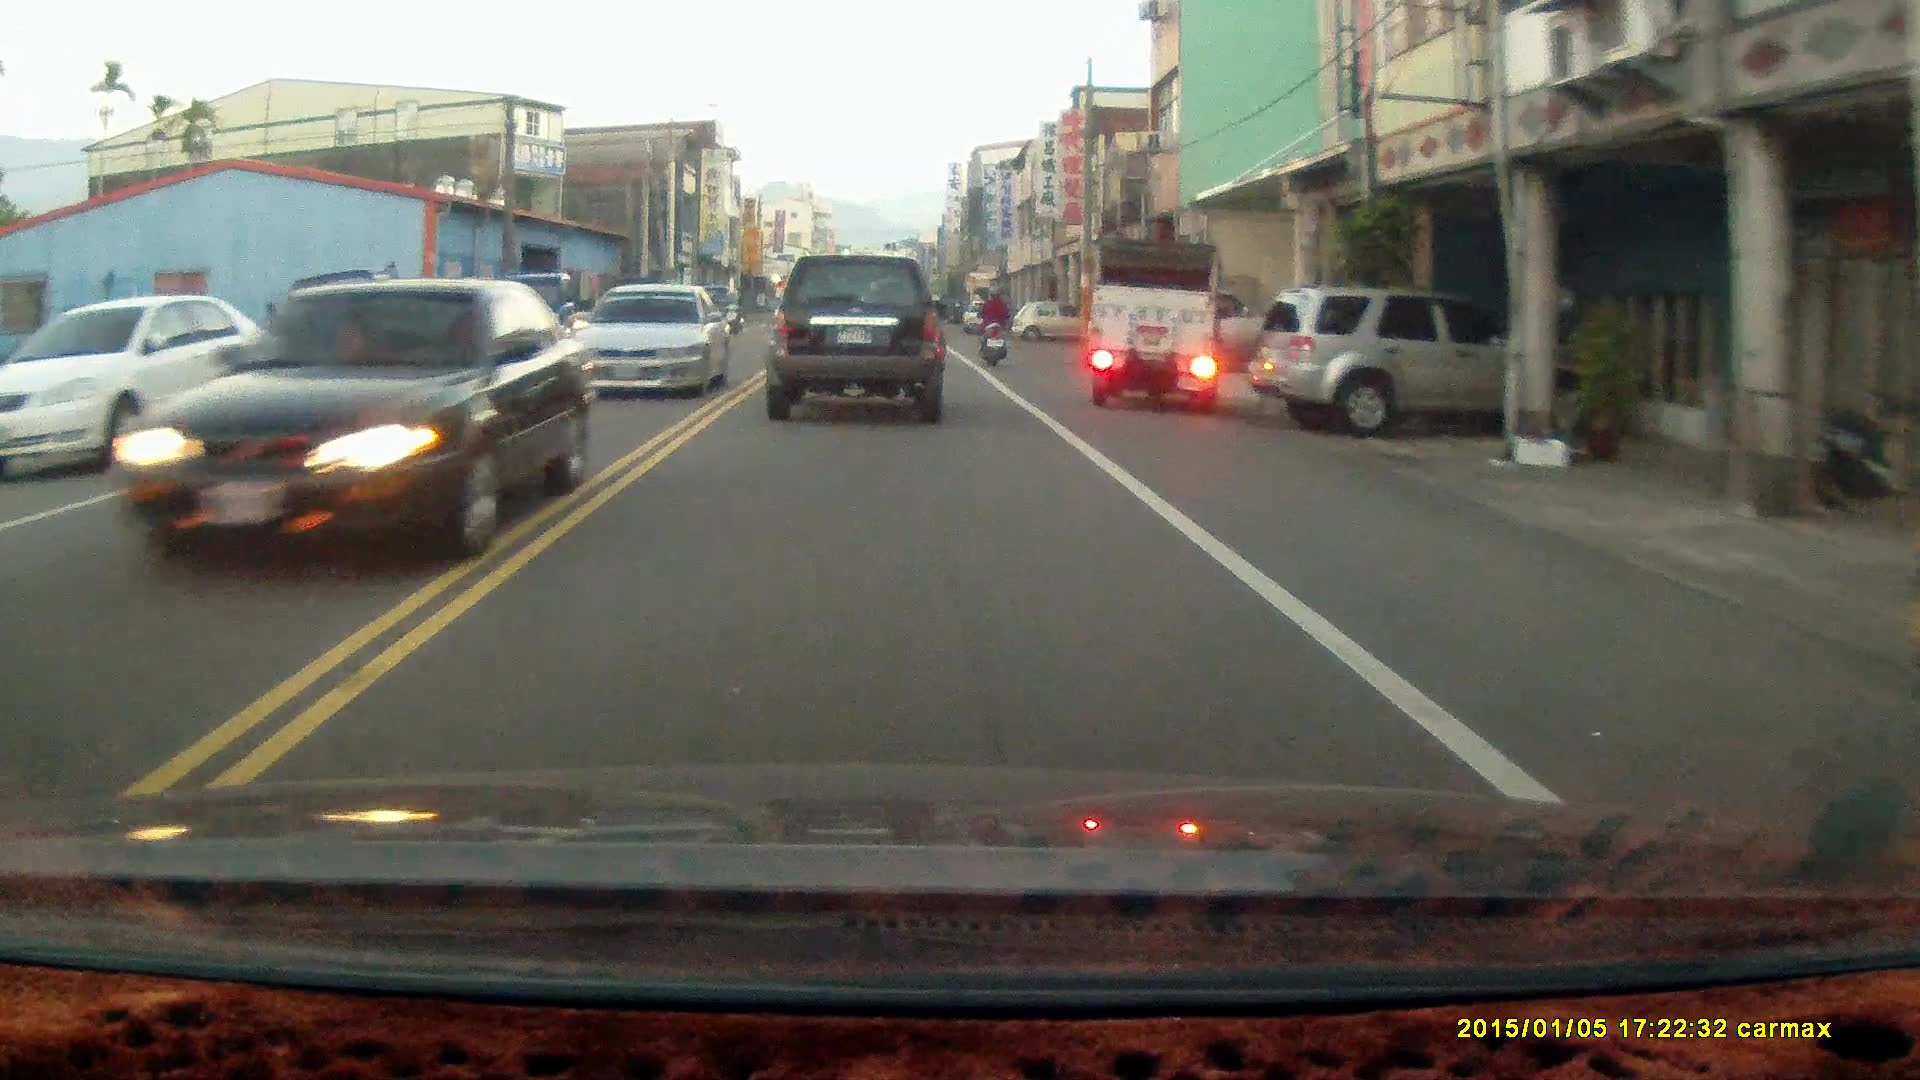rider: (975, 280, 1012, 366), (720, 286, 746, 335)
vehicle: (115, 276, 591, 575), (1, 293, 285, 484), (1254, 279, 1524, 434), (766, 255, 948, 425), (1087, 234, 1223, 404), (574, 280, 730, 397), (1013, 293, 1080, 342)
